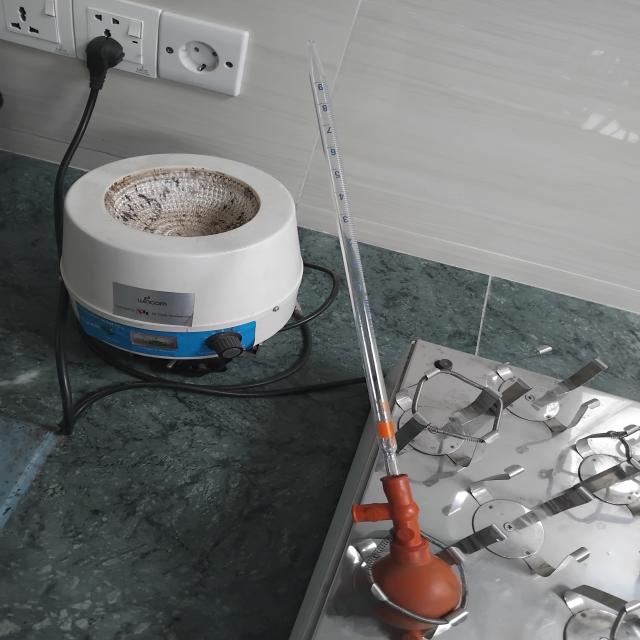Volumetric_Pipet: (246, 13, 524, 640)
